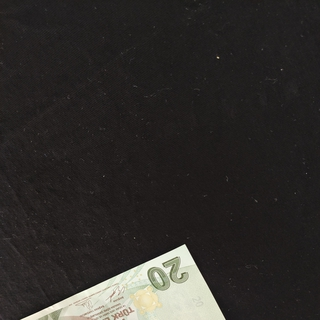20TLFront: (0, 243, 237, 320)
